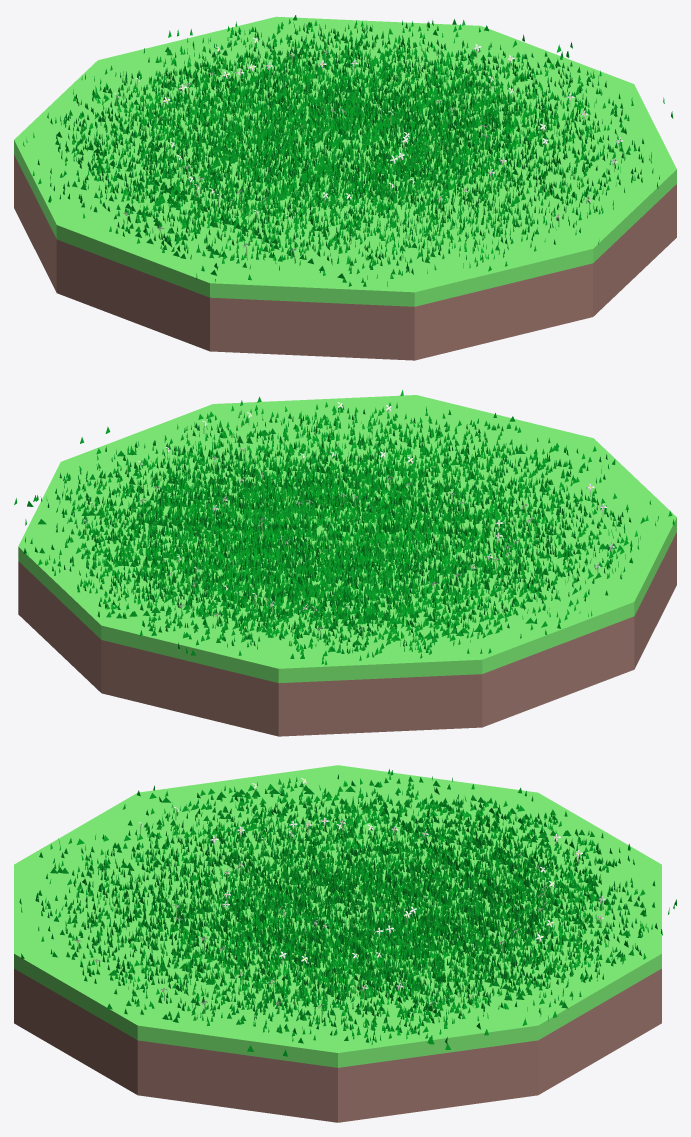
File: Env.FBX
The picture shows the model from 3 angles, top to bottom: view 1: azimuth 30°, elevation 25°; view 2: azimuth 150°, elevation 25°; view 3: azimuth 270°, elevation 25°; orthographic projection. The views are drawn at different scales.
Visible parts, largest first — view 1: Object001, Cylinder001, Grass2031, Grass2032, Grass2033, Box042; view 2: Object001, Cylinder001, Grass2032, Grass2033, Grass2031, Box042; view 3: Object001, Cylinder001, Grass2031, Grass2033, Grass2032, Box042.
Boxes of the visible parts, x1,y1,x2,y2 form: Object001: (14, 16, 676, 292); Cylinder001: (14, 140, 676, 360); Grass2031: (23, 15, 659, 286); Grass2032: (95, 40, 625, 265); Grass2033: (32, 15, 673, 286); Box042: (114, 37, 623, 261); Object001: (18, 395, 676, 668); Cylinder001: (18, 518, 676, 736); Grass2032: (98, 415, 606, 631); Grass2033: (14, 402, 633, 665); Grass2031: (25, 390, 674, 660); Box042: (82, 402, 614, 639); Object001: (14, 765, 661, 1052); Cylinder001: (14, 954, 661, 1122); Grass2031: (21, 769, 655, 1038); Grass2033: (19, 776, 676, 1056); Grass2032: (84, 798, 589, 1026); Box042: (74, 778, 605, 1017).
Bounding box in the file's own units: 223 × 29.79 × 215.
